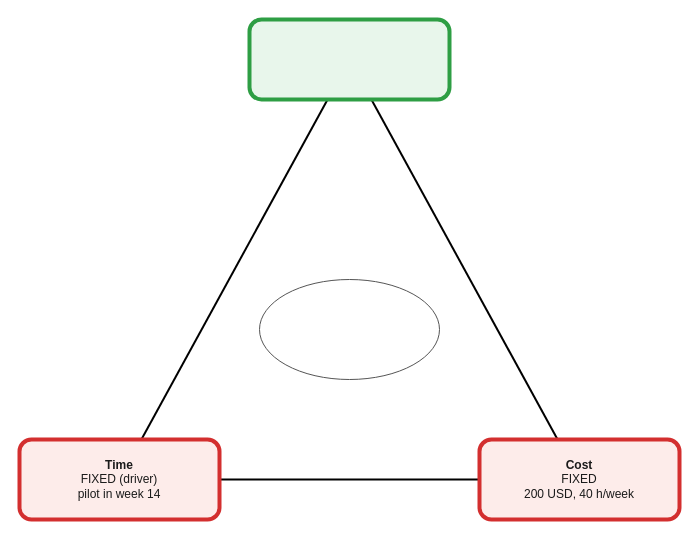
Some shapes in this 698 by 538 pixel diagram are drawn without their labels. Each missing label, with the centre of its shape:
Quality p95 <= 500 ms · coverage >= 80 % · WCAG AA: (349,329)
Scope FLEXES 204 h of 504 h negotiable: (349,59)
